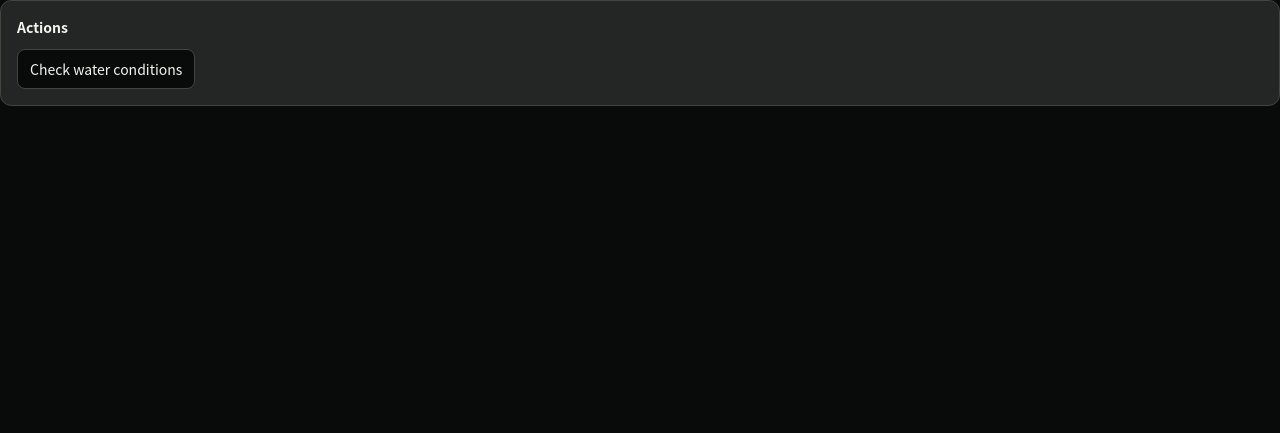
Test: shows the confirmed failure reason while keeping the observation inputs
Click the button "Check water conditions": (106, 69) [17,49,195,89]
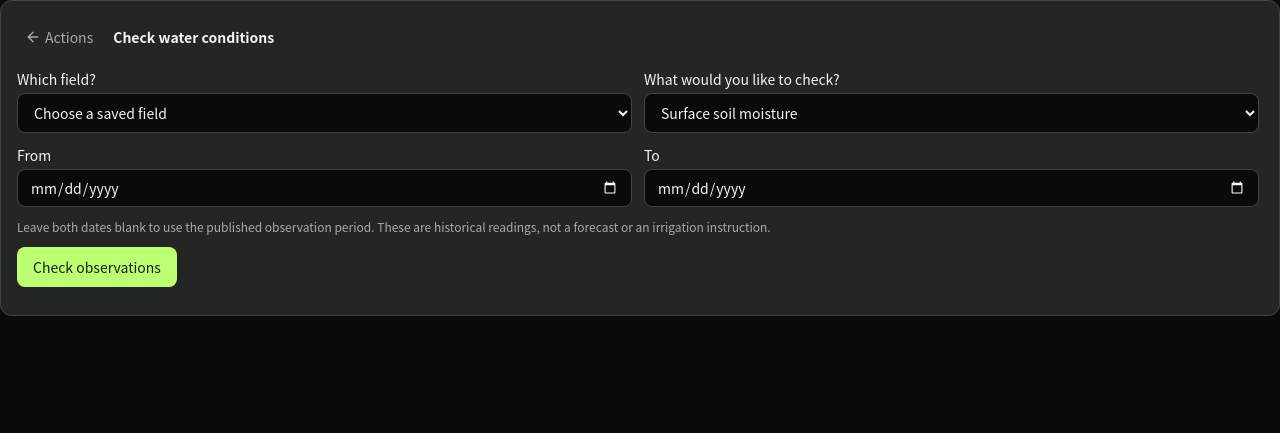
Select "North meadow · 4 ha · 35.000, -90.000" in the dropdown labelled "Which field?": (324, 113) [17,93,632,133]
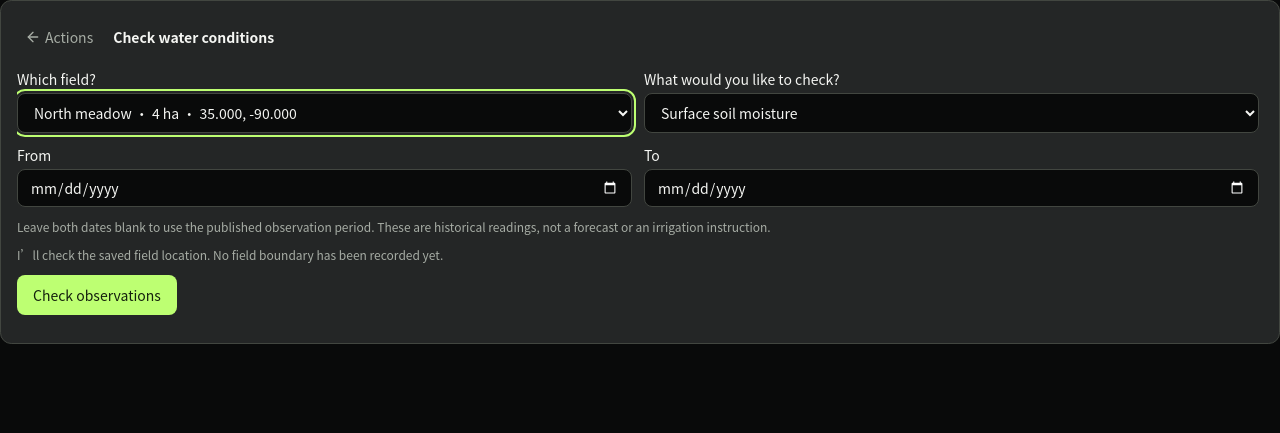
Click the button "Check observations": (97, 295) [17,275,177,315]
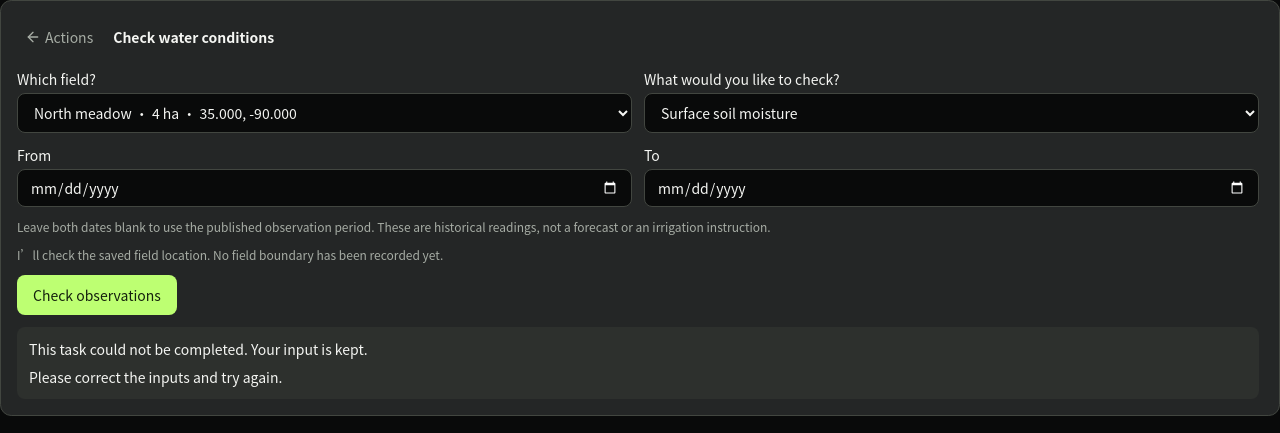
Check: the text "Please correct the inputs and try again." is shown, box [29,367,282,387]
